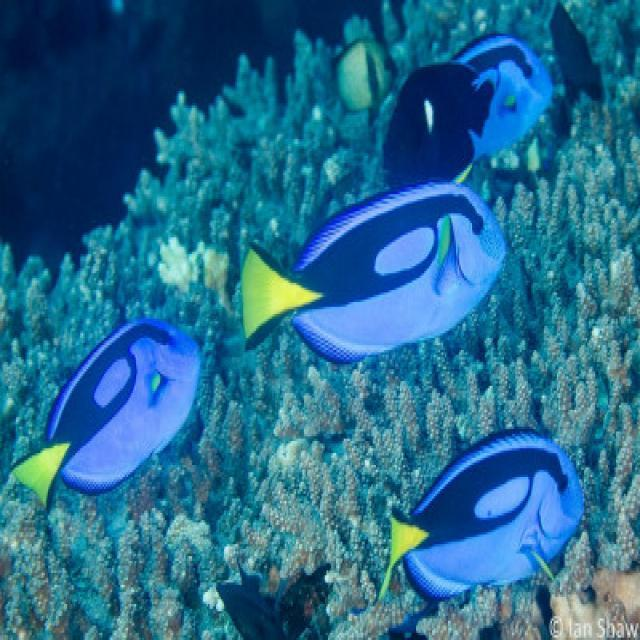TangFish: (236, 182, 508, 365), (9, 308, 200, 510), (380, 425, 582, 602), (458, 30, 560, 155)
